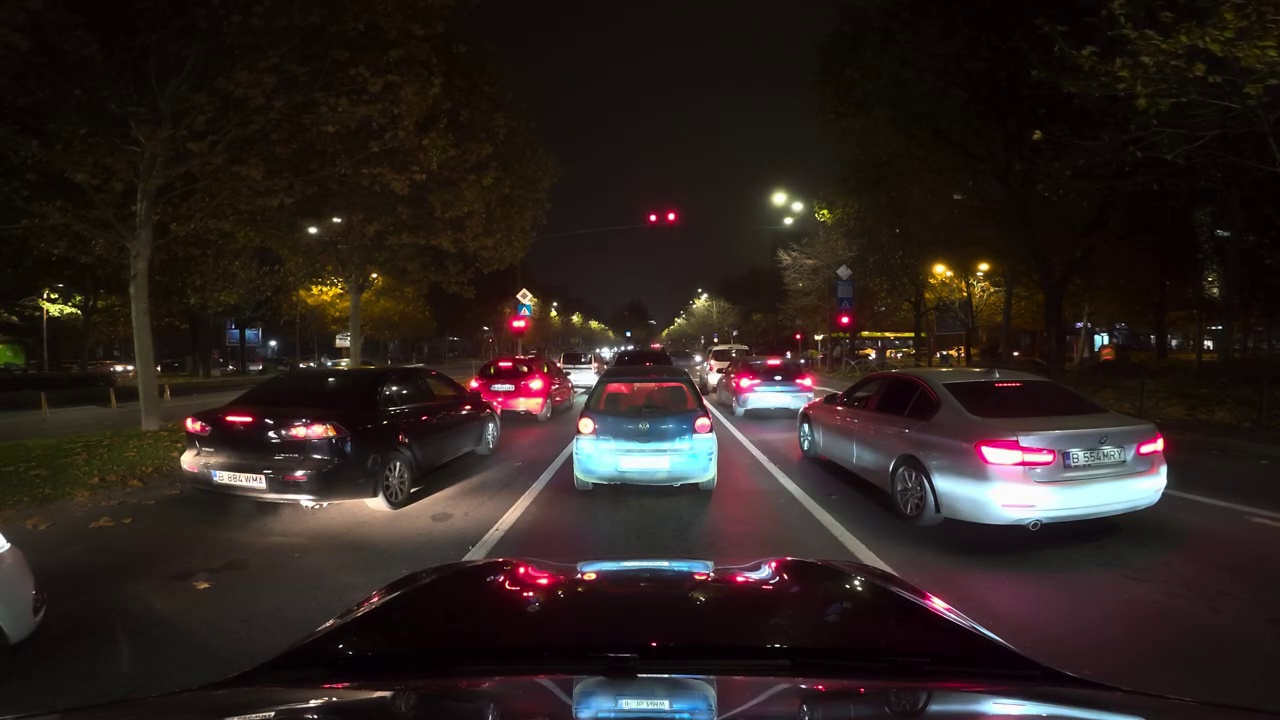acesa: (767, 187, 797, 216), (929, 260, 953, 283)
